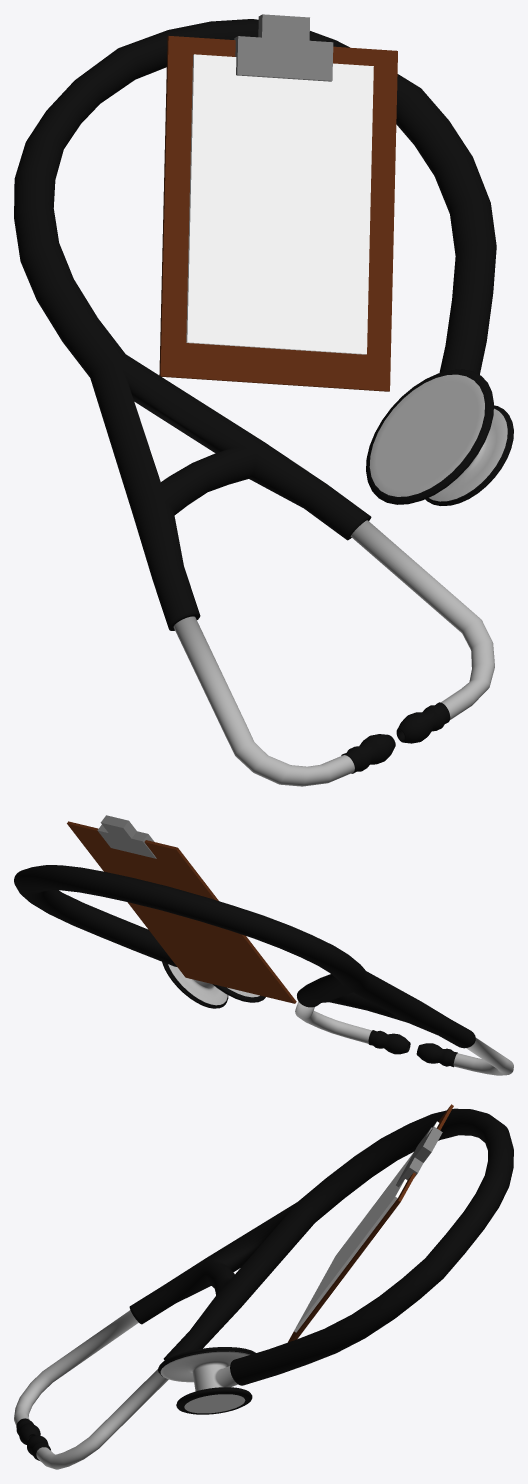
The model's file is doctor.glb.
3 renders of one model, top to bottom at view 1: azimuth 30°, elevation 25°; view 2: azimuth 150°, elevation 25°; view 3: azimuth 270°, elevation 25°, orthographic. The views are drawn at different scales.
Parts seen in each view (by area): view 1: anchor_body, anchor_pos; view 2: anchor_body, anchor_pos; view 3: anchor_body, anchor_pos.
Part boxes in pixels (x1,y1,x2,y2): anchor_body: (14,19,513,786); anchor_pos: (159,14,397,391); anchor_body: (14,865,513,1075); anchor_pos: (67,815,296,1003); anchor_body: (14,1108,513,1469); anchor_pos: (288,1104,453,1342).
Bounding box in the file's own units: 0.346 × 0.3563 × 0.4279.
